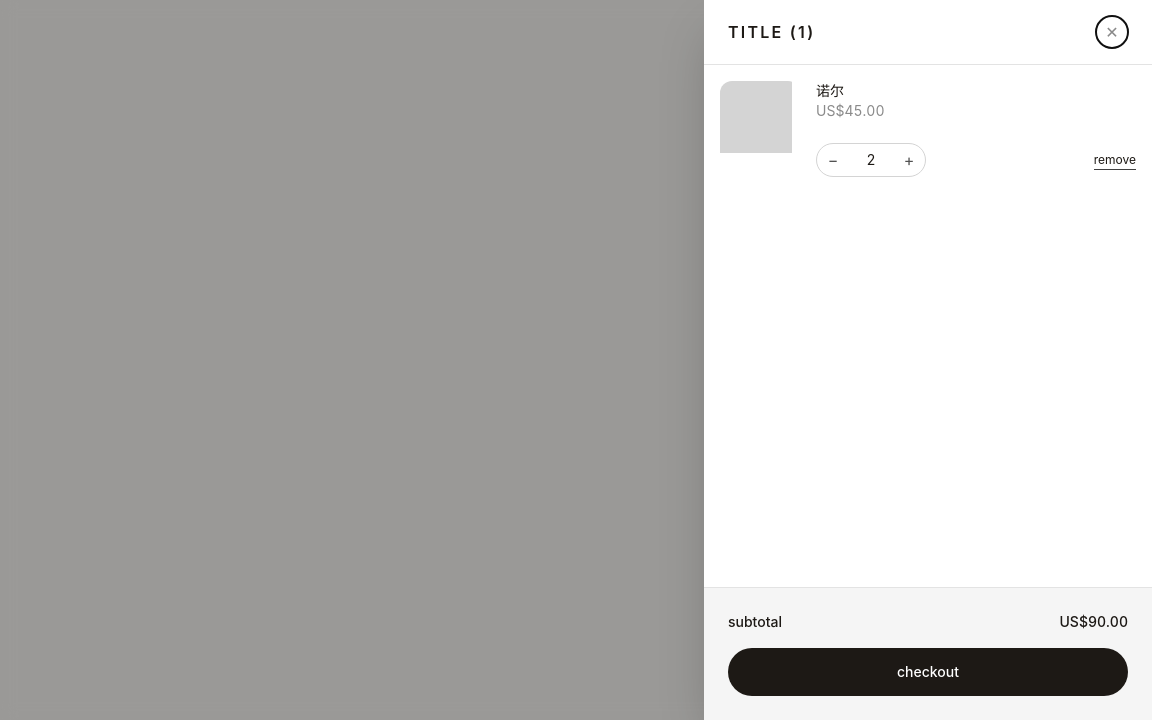
Test case: CartDrawer · Checkout 直达 Shopify(不再先进 /checkout) › 4xx 且响应里没带 items 时渲染通用文案(仍然不跳转)
The width and height of the screenshot is (1152, 720).
Click the button "checkout" at (928, 672), box [728, 648, 1128, 696]
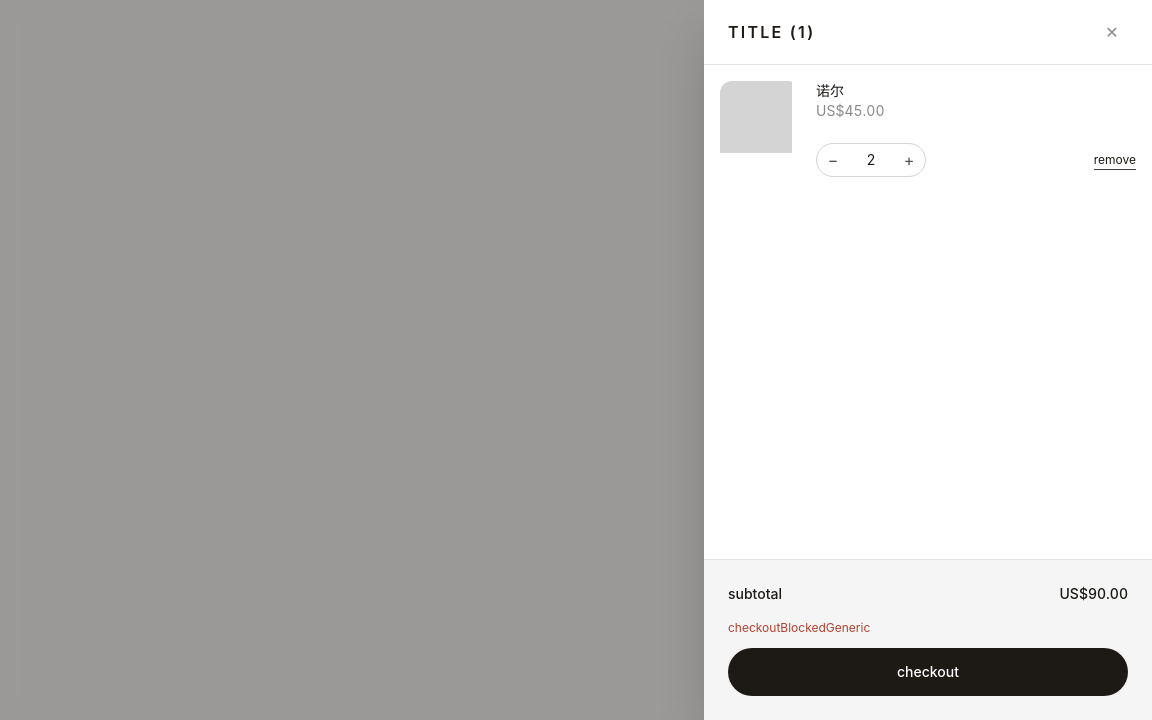
Expected: the message reads "checkoutBlockedGeneric", [728, 620, 870, 635]
